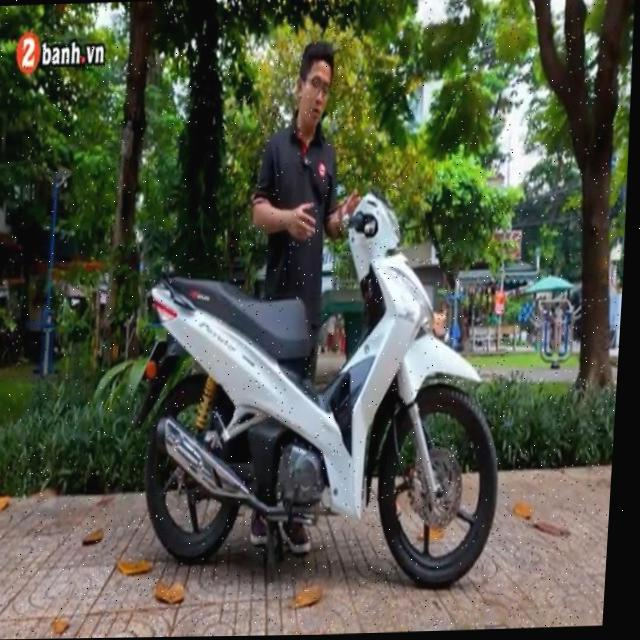motorcycle: (123, 165, 523, 599)
